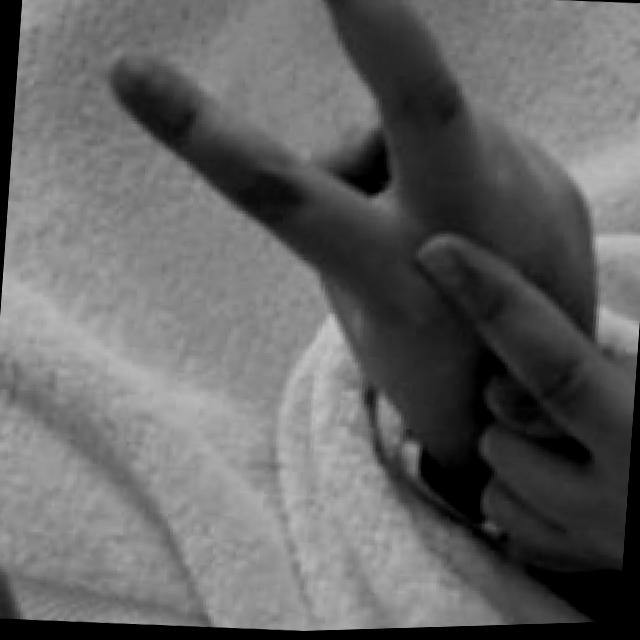Y: (76, 0, 640, 595)
